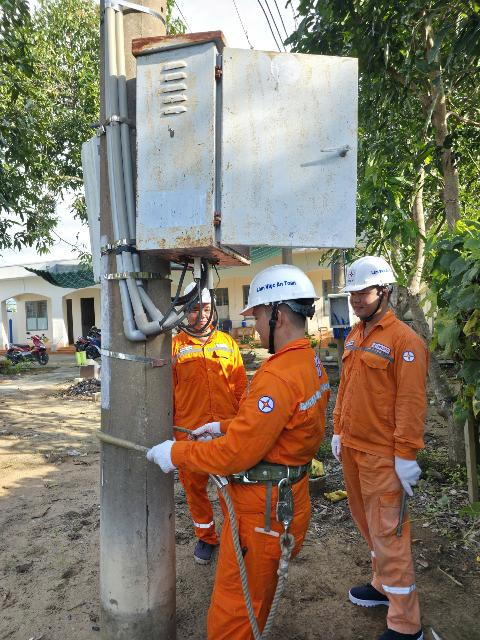gloves: (383, 449, 433, 497), (146, 437, 197, 475), (187, 411, 234, 449), (329, 427, 353, 465)
harness: (201, 452, 323, 492)
helmet: (227, 258, 317, 323), (331, 248, 402, 293), (168, 277, 224, 312)
shoes: (346, 577, 408, 612), (182, 529, 219, 572), (368, 618, 438, 640)
